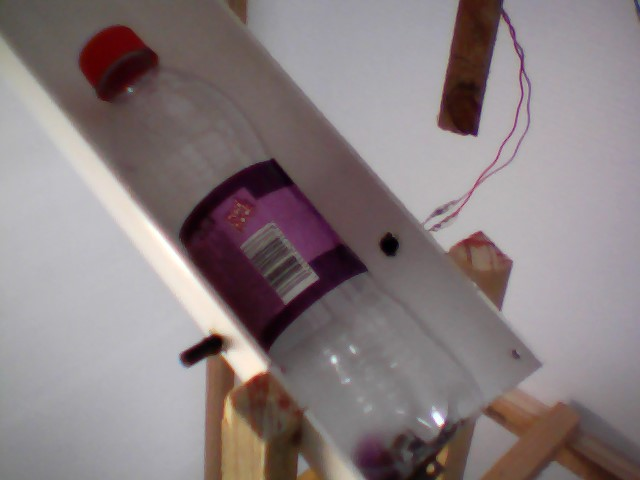plastico: (76, 19, 489, 480)
